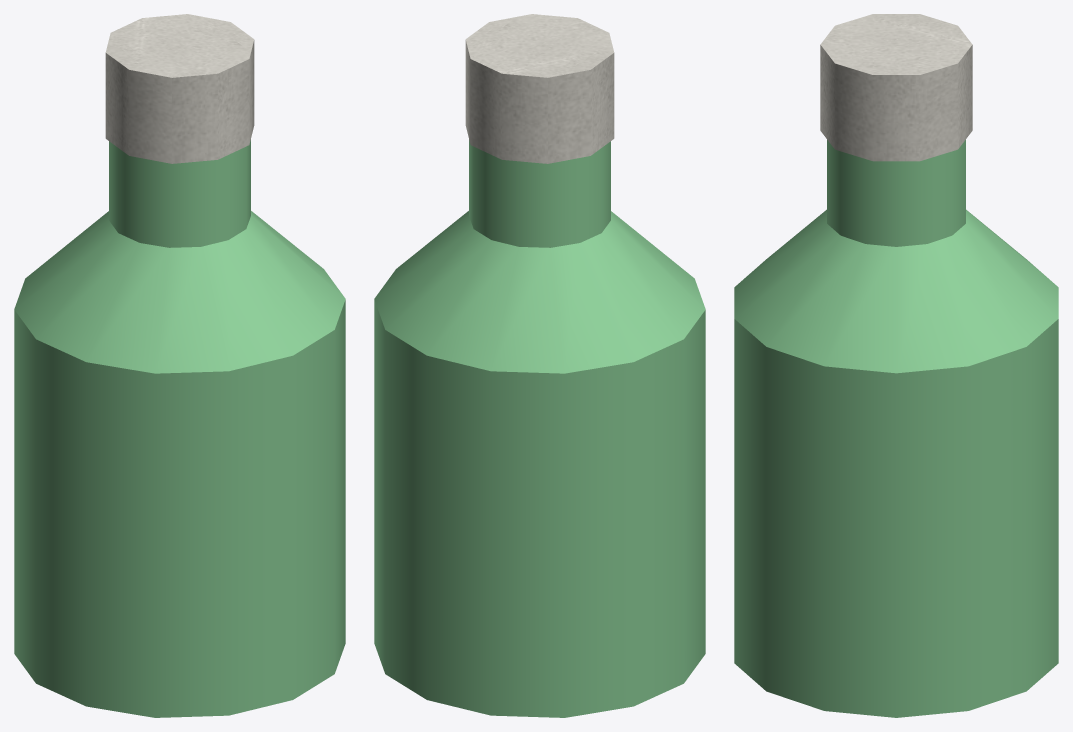
Rendered from antidote.glb.
3 renders of one model, left to right at view 1: azimuth 30°, elevation 25°; view 2: azimuth 150°, elevation 25°; view 3: azimuth 270°, elevation 25°, orthographic.
Visible parts, largest first — view 1: Antidote; view 2: Antidote; view 3: Antidote.
Boxes of the visible parts, x1=… form: Antidote: x1=14, y1=14, x2=345, y2=717; Antidote: x1=374, y1=14, x2=705, y2=717; Antidote: x1=734, y1=14, x2=1058, y2=717.
Bounding box in the file's own units: 0.07 × 0.14 × 0.0682.
2 materials, 1 textured.
